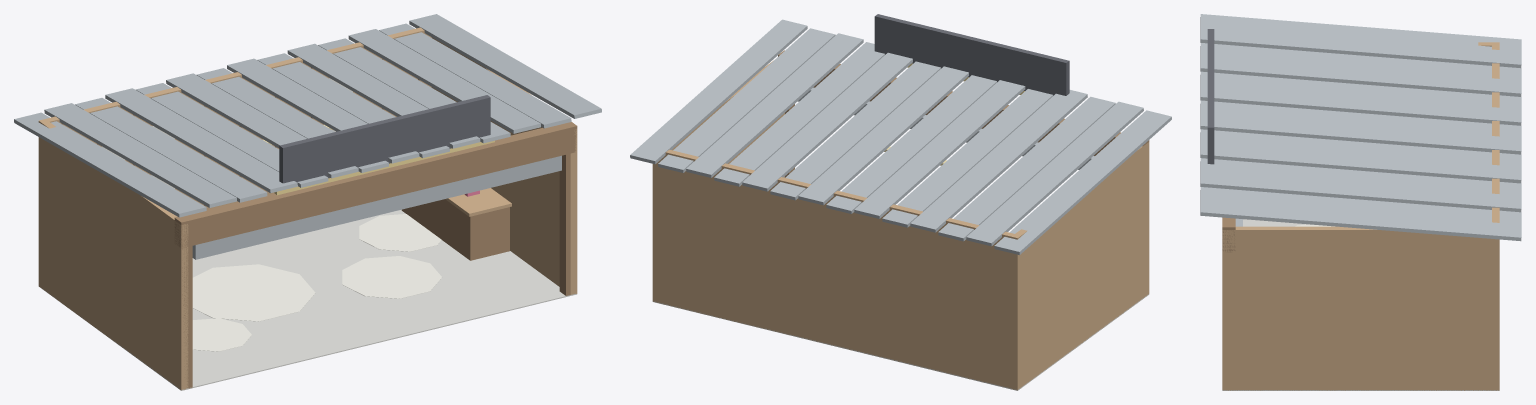
File: ShaperShed.fbx
3 renders of one model, left to right at view 1: azimuth 30°, elevation 25°; view 2: azimuth 150°, elevation 25°; view 3: azimuth 270°, elevation 25°, orthographic. The views are drawn at different scales.
Visible parts, largest first — view 1: ShaperShed; view 2: ShaperShed; view 3: ShaperShed.
Part boxes in pixels (left/top/right/bottom): ShaperShed: left=14, top=14, right=601, bottom=390; ShaperShed: left=630, top=14, right=1171, bottom=390; ShaperShed: left=1200, top=14, right=1521, bottom=390.
Bounding box in the file's own units: 8.54 × 4.35 × 5.78.
